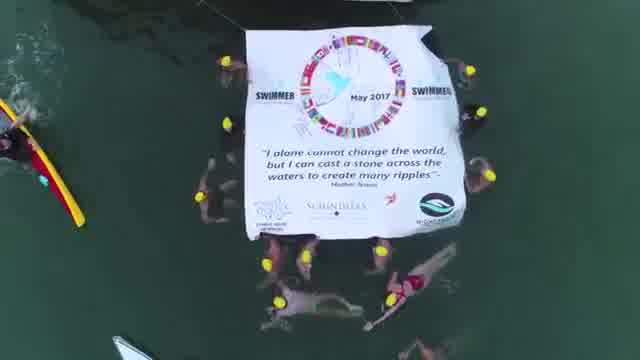human: (359, 266, 459, 330), (264, 285, 364, 324), (191, 166, 235, 226), (459, 160, 504, 198), (292, 241, 330, 280), (216, 54, 250, 92), (444, 60, 482, 94), (254, 241, 284, 282), (360, 242, 396, 272)
